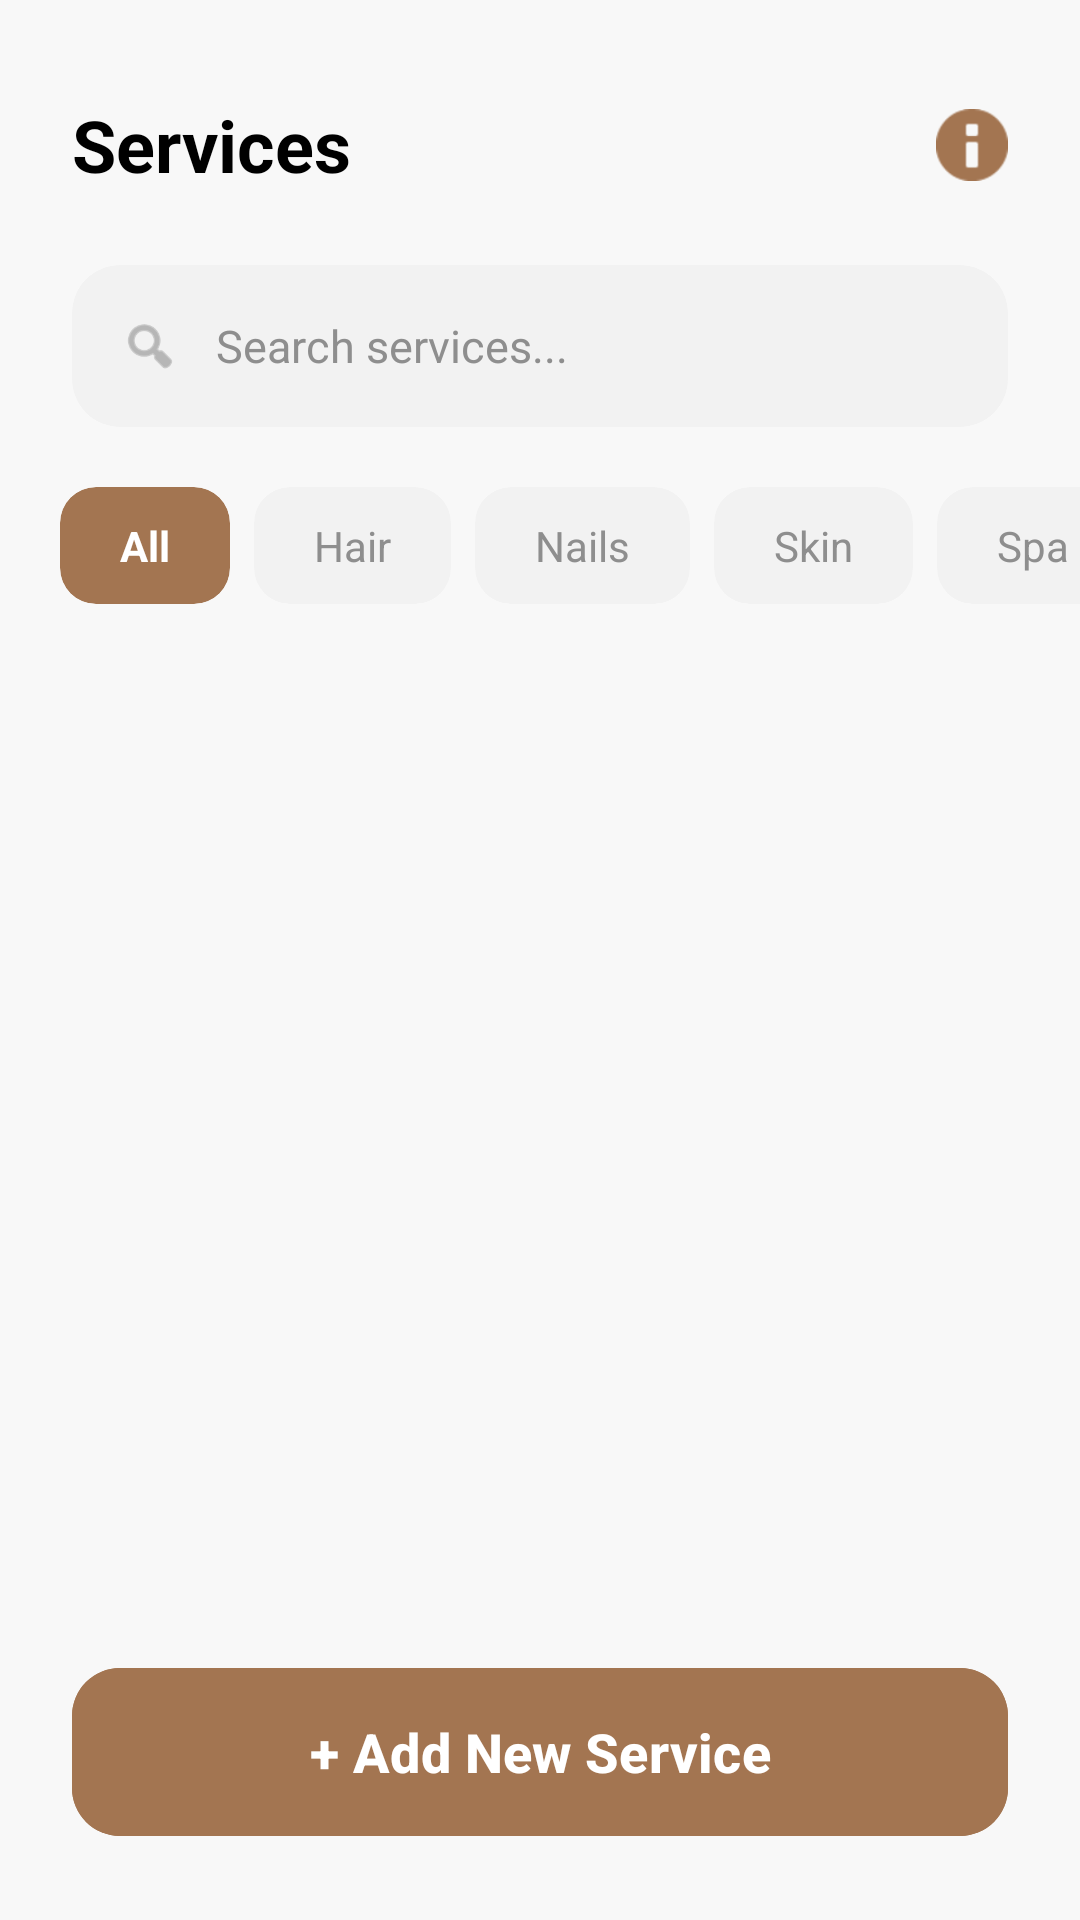

Named icons in this screenshot (1080x1920) and their bounding boxes, BBox(x1, y1, x2, y2):
info: BBox(936, 109, 1008, 181)
